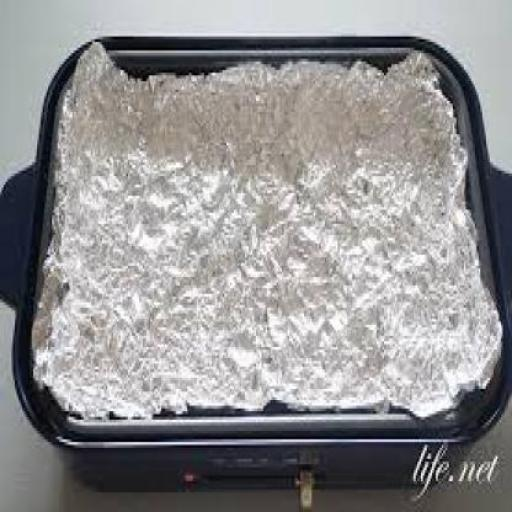metal: (29, 36, 501, 414)
